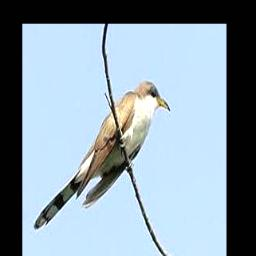Cuckoo: (33, 82, 169, 229)
